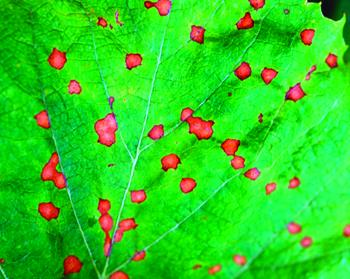grape leaf: (2, 2, 346, 279)
